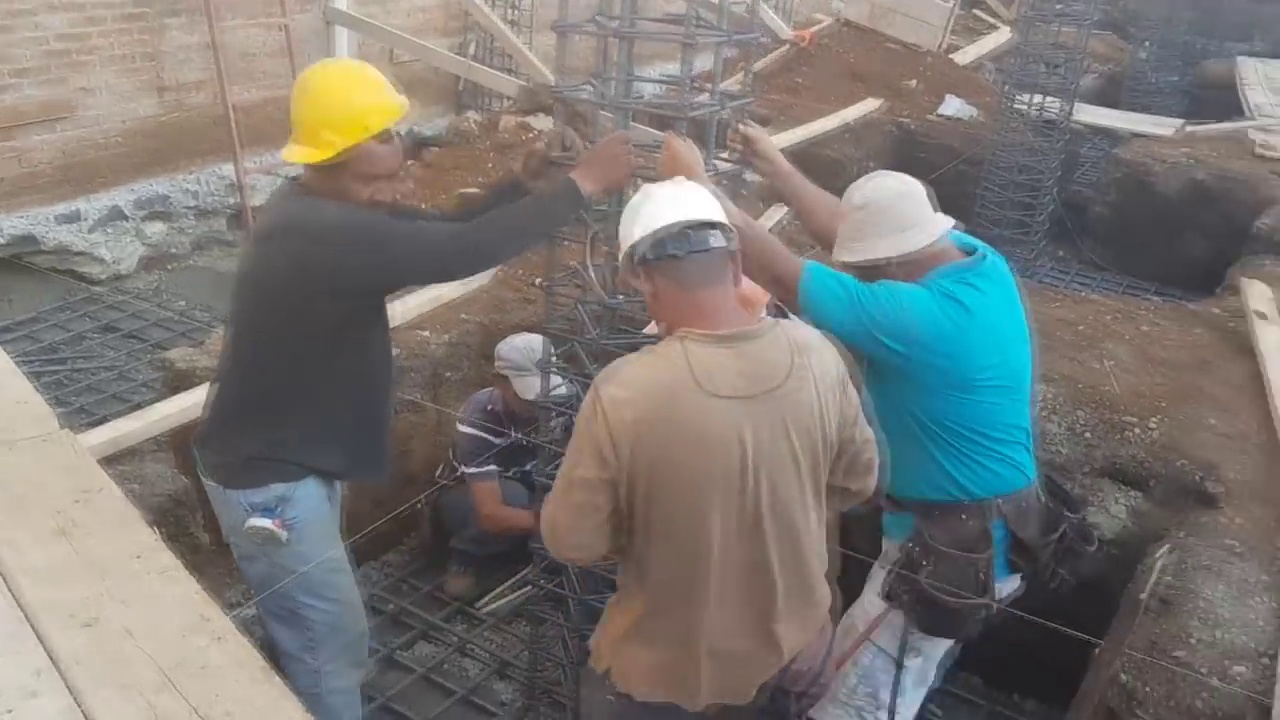helmet: (615, 170, 742, 281), (274, 52, 402, 156)
helmet-off: (826, 164, 970, 297), (489, 336, 562, 421)
helmet-on: (614, 173, 779, 342), (267, 40, 416, 224)
person: (183, 46, 675, 719), (674, 126, 1057, 714), (532, 170, 885, 720), (426, 332, 567, 609)
